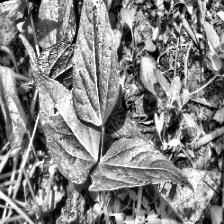ALS: (30, 64, 102, 188), (71, 0, 121, 125)
